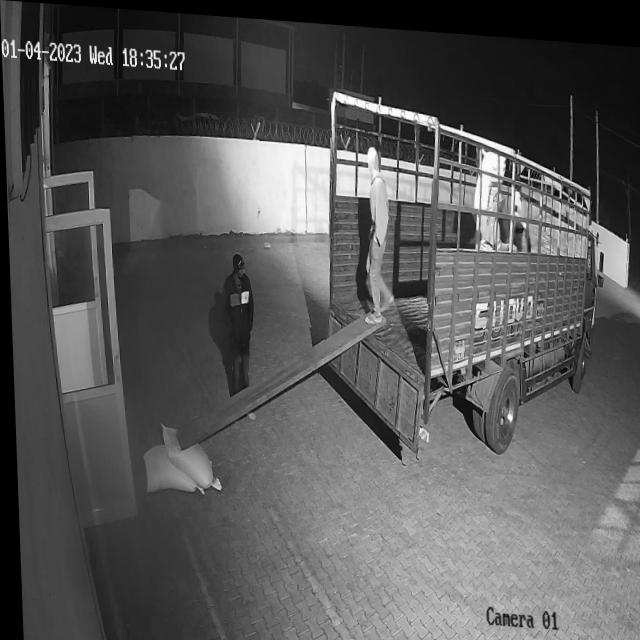sack: (156, 420, 218, 488), (138, 440, 201, 492), (469, 143, 509, 213)
